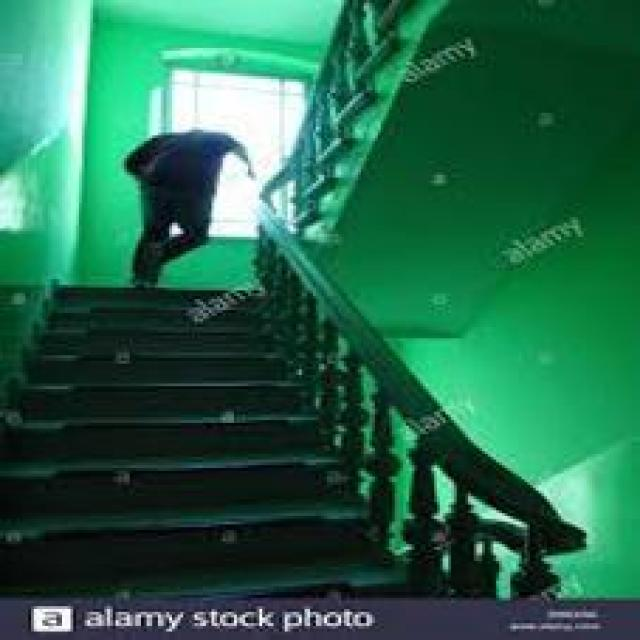upstair: (24, 373, 371, 557)
